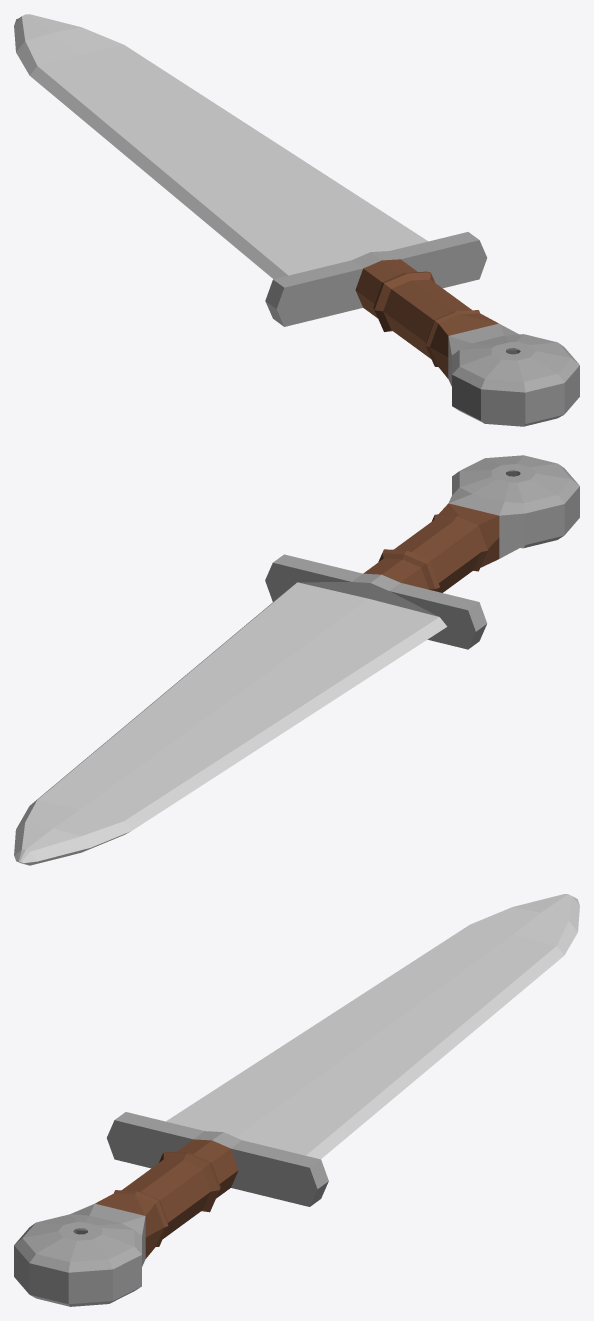
Rendered from shortsword.glb.
The picture shows the model from 3 angles, top to bottom: view 1: azimuth 30°, elevation 25°; view 2: azimuth 150°, elevation 25°; view 3: azimuth 330°, elevation 25°; orthographic projection.
Parts seen in each view (by area): view 1: Cylinder; view 2: Cylinder; view 3: Cylinder.
Part boxes in pixels (box(x1,y1,x2,y2)): Cylinder: box(14, 14, 579, 426); Cylinder: box(14, 455, 579, 865); Cylinder: box(14, 894, 579, 1306).
Bounding box in the file's own units: 0.8021 × 0.216 × 3.46.
1 material, 1 textured.
